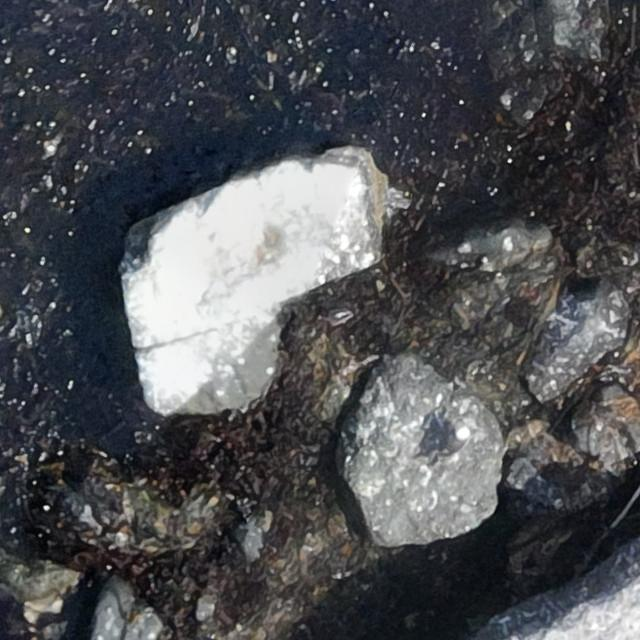umineko: (438, 424, 468, 464)
